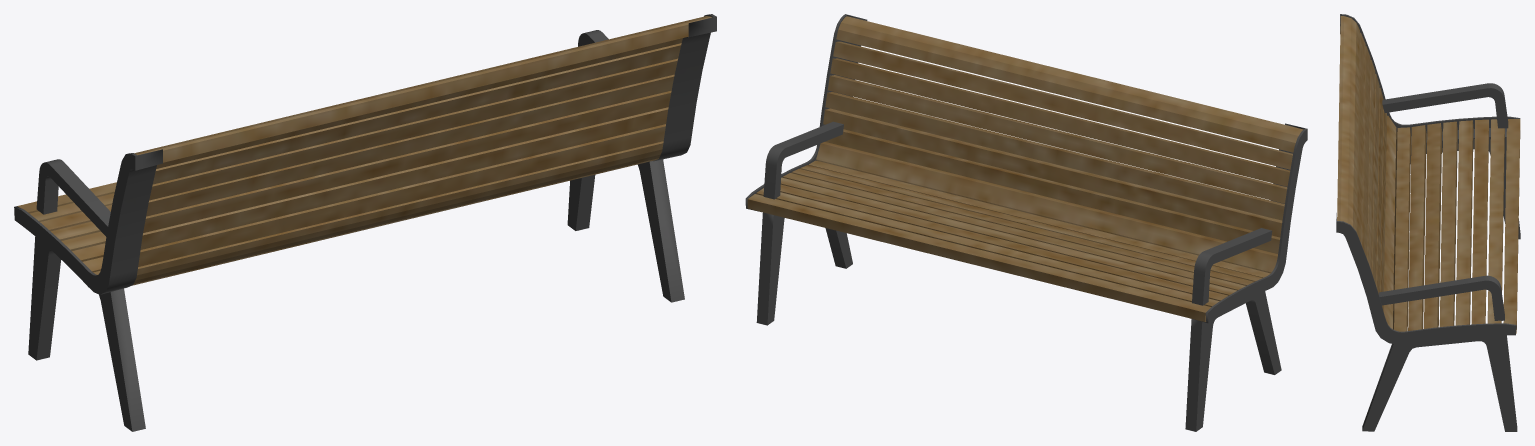
File: лавочка.glb
The picture shows the model from 3 angles, left to right: view 1: azimuth 30°, elevation 25°; view 2: azimuth 150°, elevation 25°; view 3: azimuth 270°, elevation 25°; orthographic projection. The views are drawn at different scales.
Visible parts, largest first — view 1: Object015; view 2: Object015; view 3: Object015.
Boxes of the visible parts, x1,y1,x2,y2 form: Object015: (14,14,716,431); Object015: (745,14,1307,431); Object015: (1336,14,1520,431).
Bounding box in the file's own units: 1.82 × 0.8731 × 0.6792.
Materials: 1 (1 with a texture image).
